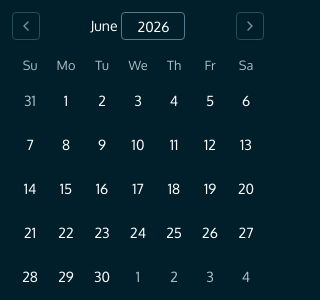
Test case: Calendar › year field › arrows work after a typed year
Replace the text in the field named "Year" with "2031". click: (154, 26)
box: [122,12,186,40]
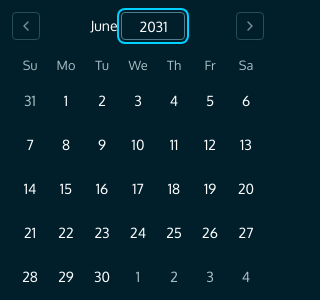
Press Enter
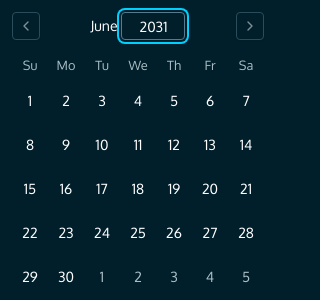
Click the button named "next month". click: (250, 26)
box: [236,12,264,40]
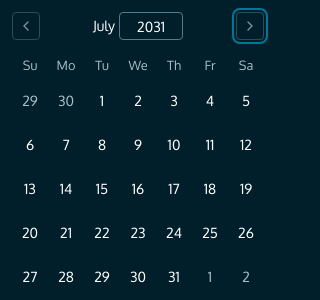
Check: the text "July" is shown, box [93,16,115,36]
